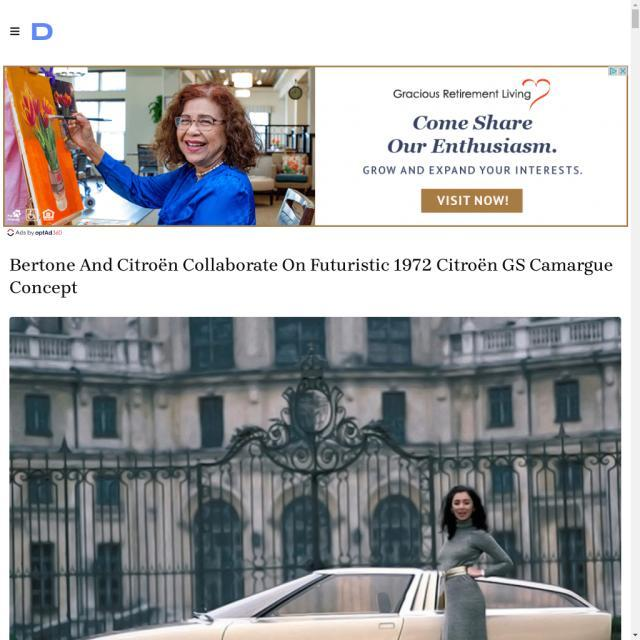button: (418, 186, 527, 216)
image: (8, 318, 620, 640)
